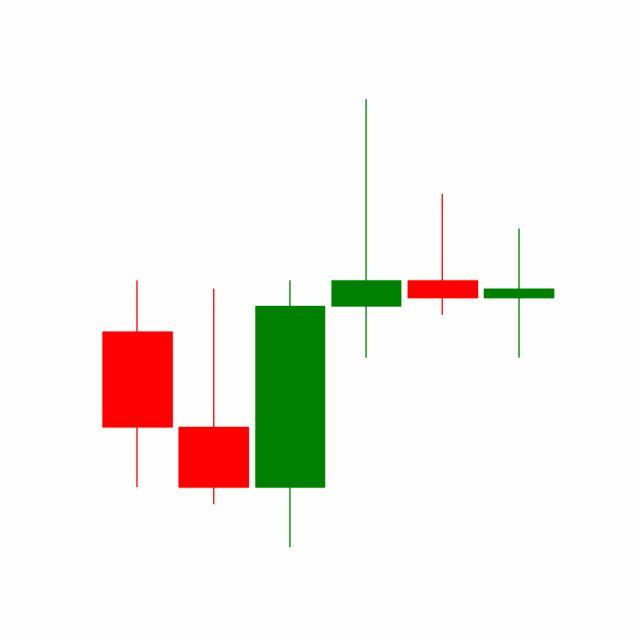Gravestone Doji: (404, 193, 482, 317)
